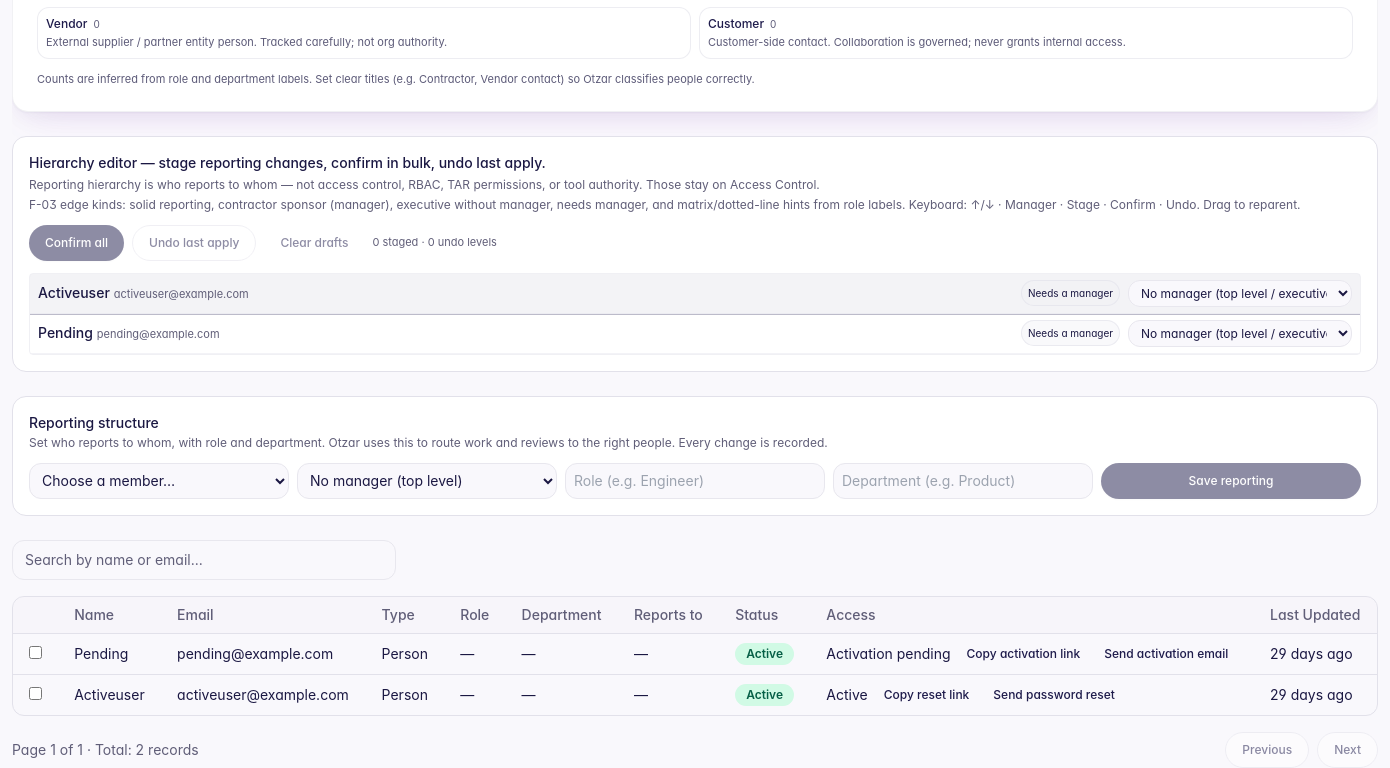
[ACT-EMAIL] Users row — send activation email › send renders for pending only; one explicit click = one POST; 'sent' claims acceptance, never delivery
The image size is (1390, 768).
(page scrolled)
Expected: the button with test id "users-copy-reset-link" is shown, [876, 682, 977, 706]
Expected: the button with test id "users-copy-activation-link" is shown, [959, 642, 1088, 666]
What coordinates should you click on to do the following:
click the button with test id "users-send-activation-email"
I would click on:
 (1166, 654)
Its box is [1096, 642, 1236, 666].
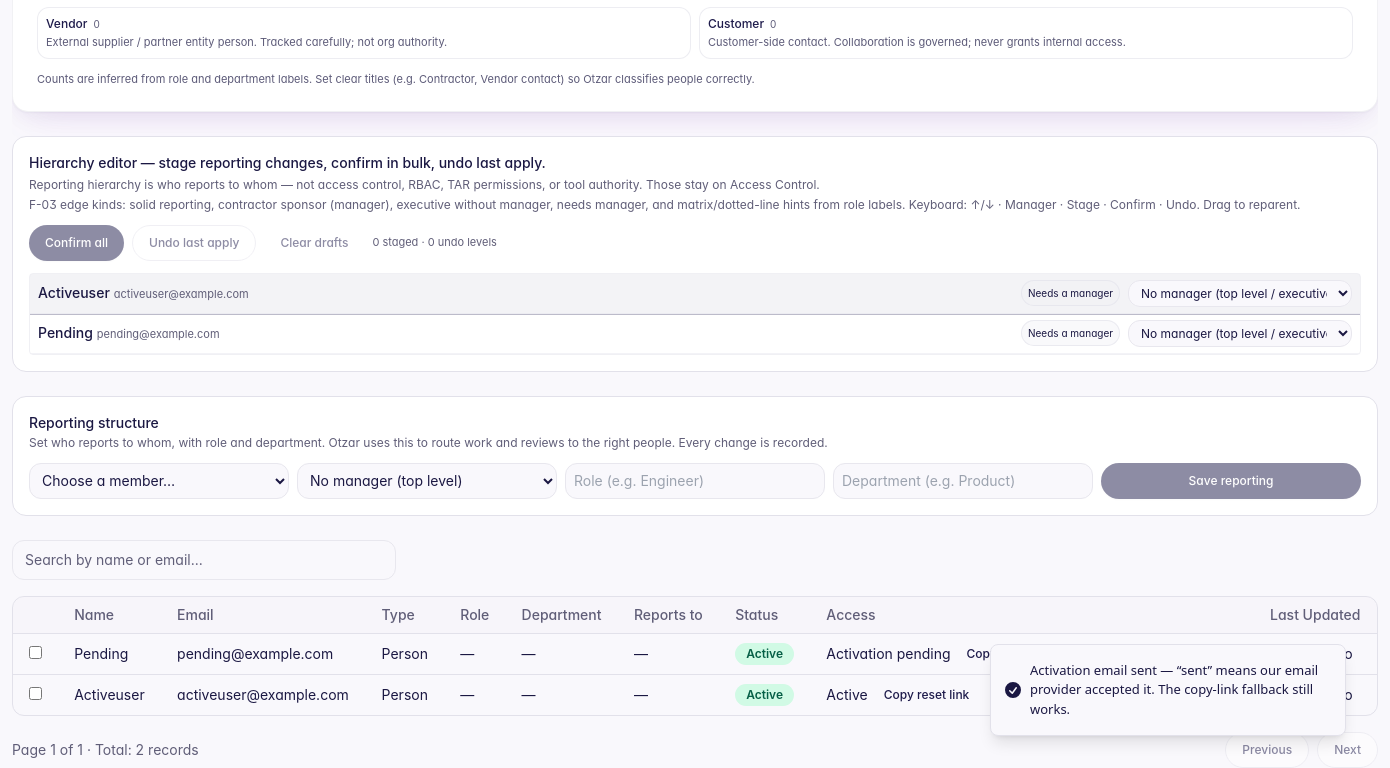
Expected: the text "provider accepted it" shows "Activation email sent", [1030, 660, 1318, 718]
